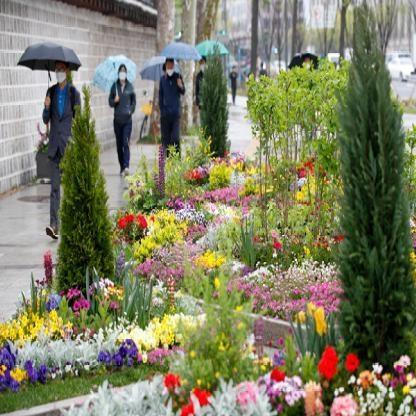Umbrella: (90, 51, 152, 98), (16, 40, 87, 78), (138, 42, 202, 83), (283, 44, 337, 86), (185, 32, 232, 68)
